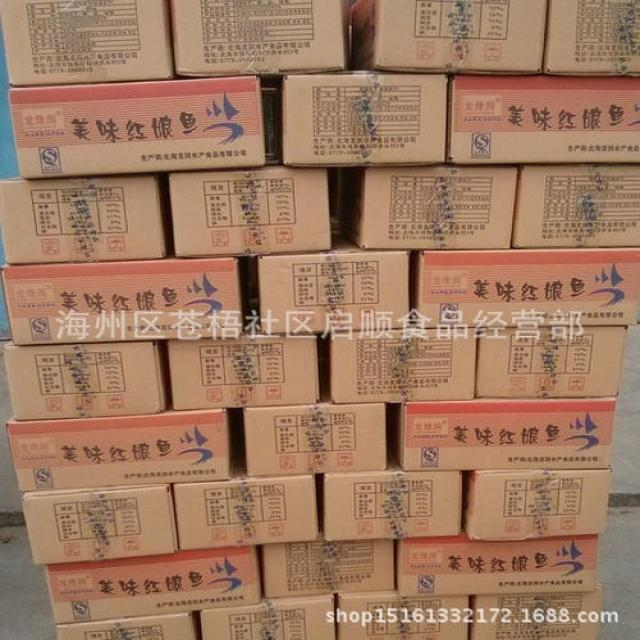box: (8, 76, 265, 181), (0, 256, 243, 347), (6, 409, 237, 493), (408, 248, 639, 326), (247, 226, 411, 334), (45, 546, 265, 626), (448, 74, 639, 164), (166, 154, 332, 256), (163, 305, 320, 412), (282, 68, 448, 167), (388, 398, 616, 470), (0, 172, 166, 264), (2, 1, 176, 87), (333, 169, 519, 248), (349, 1, 549, 73), (169, 458, 319, 552), (167, 1, 349, 77), (3, 340, 168, 422), (319, 448, 463, 539), (395, 535, 599, 599), (318, 326, 479, 405), (22, 484, 178, 565), (476, 326, 628, 400), (243, 403, 387, 478), (512, 164, 639, 248), (461, 470, 611, 539), (257, 538, 394, 599), (470, 580, 604, 639), (543, 0, 639, 75), (338, 593, 470, 639), (197, 596, 337, 639), (55, 611, 199, 638)
